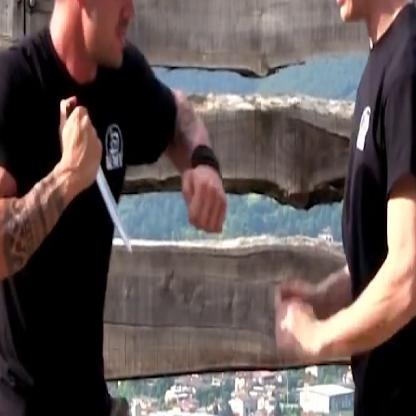knife: (58, 92, 137, 262)
